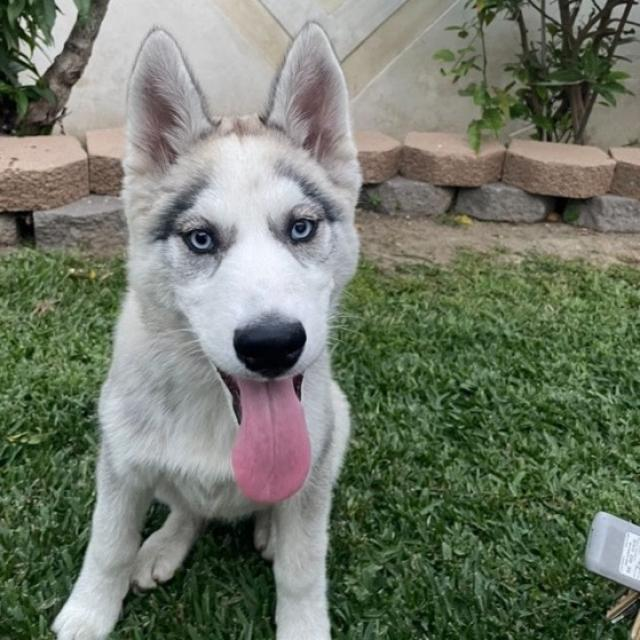siberian_husky_dog: (116, 16, 366, 518)
